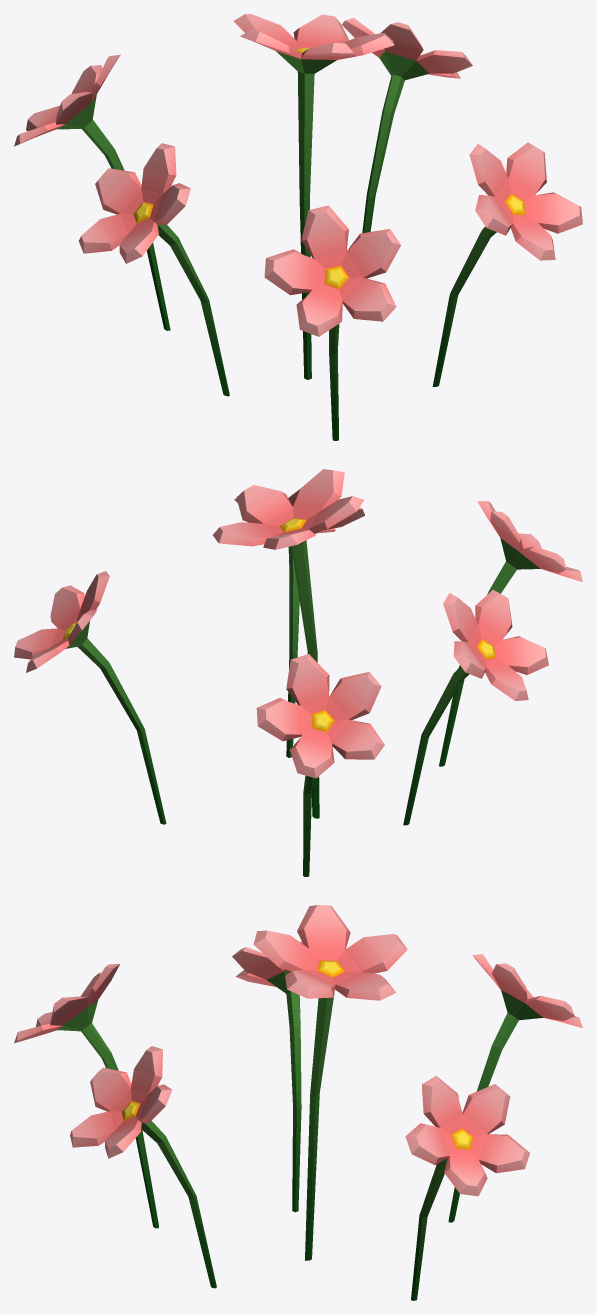
The model's file is Flower_Pink_Group.fbx.
3 renders of one model, top to bottom at view 1: azimuth 30°, elevation 25°; view 2: azimuth 150°, elevation 25°; view 3: azimuth 270°, elevation 25°, orthographic. The views are drawn at different scales.
Visible parts, largest first — view 1: Flower_Pink_Group; view 2: Flower_Pink_Group; view 3: Flower_Pink_Group.
Part boxes in pixels (<box>): Flower_Pink_Group: <box>14,14,582,440</box>; Flower_Pink_Group: <box>14,469,582,876</box>; Flower_Pink_Group: <box>14,905,582,1300</box>.
Size of the model in its own units: 75.92 by 56.11 by 86.28.
